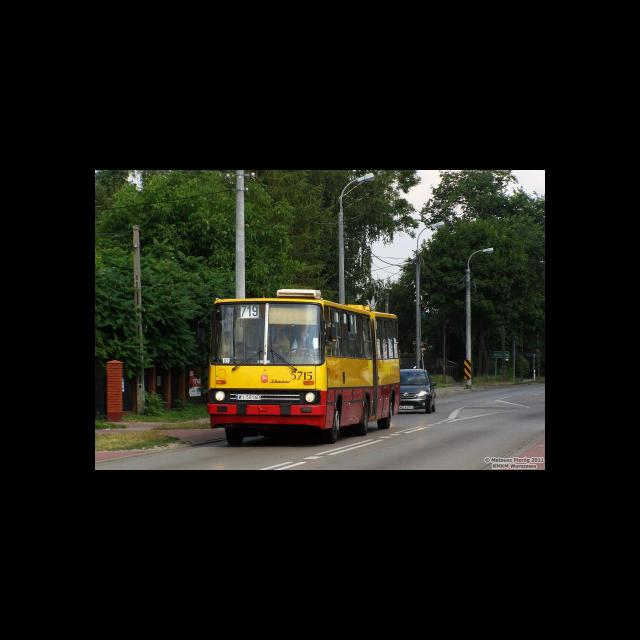Bus: (206, 290, 400, 446)
Car: (400, 370, 437, 414)
Electric pole: (338, 172, 376, 304), (416, 221, 446, 370), (464, 248, 495, 389)
